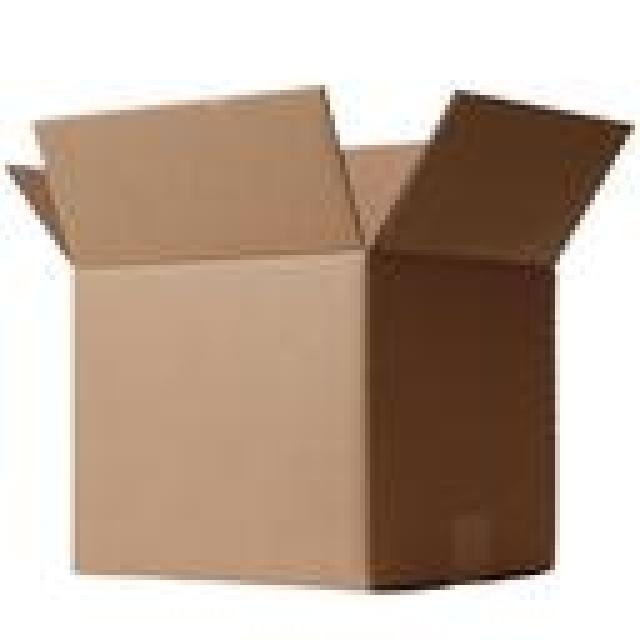Cardboard: (6, 81, 627, 588)
